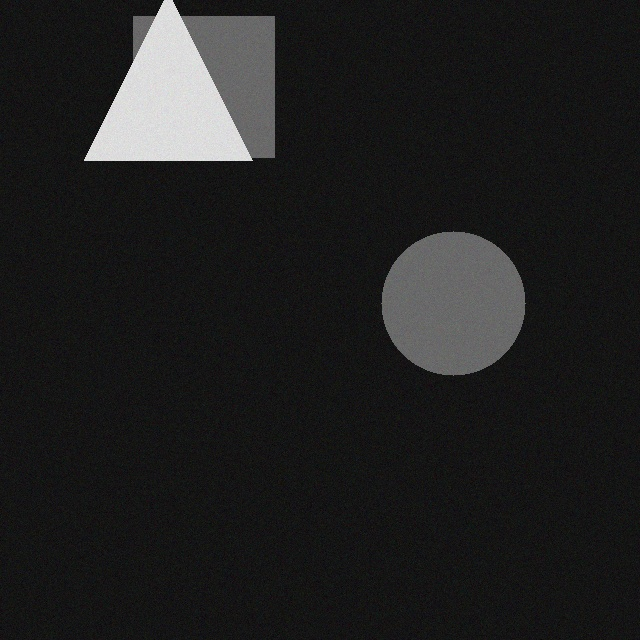circle: (367, 241, 511, 385)
square: (119, 26, 260, 167)
triangle: (70, 2, 238, 170)
